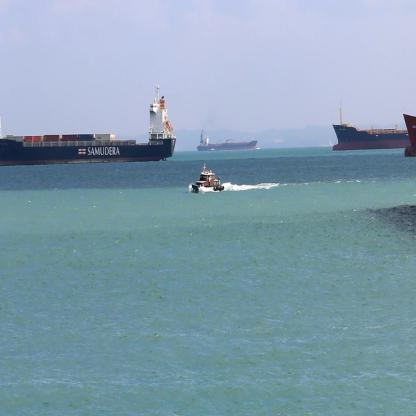Container Ship: (0, 83, 177, 167), (332, 108, 410, 152), (196, 131, 258, 152), (403, 112, 415, 159)
